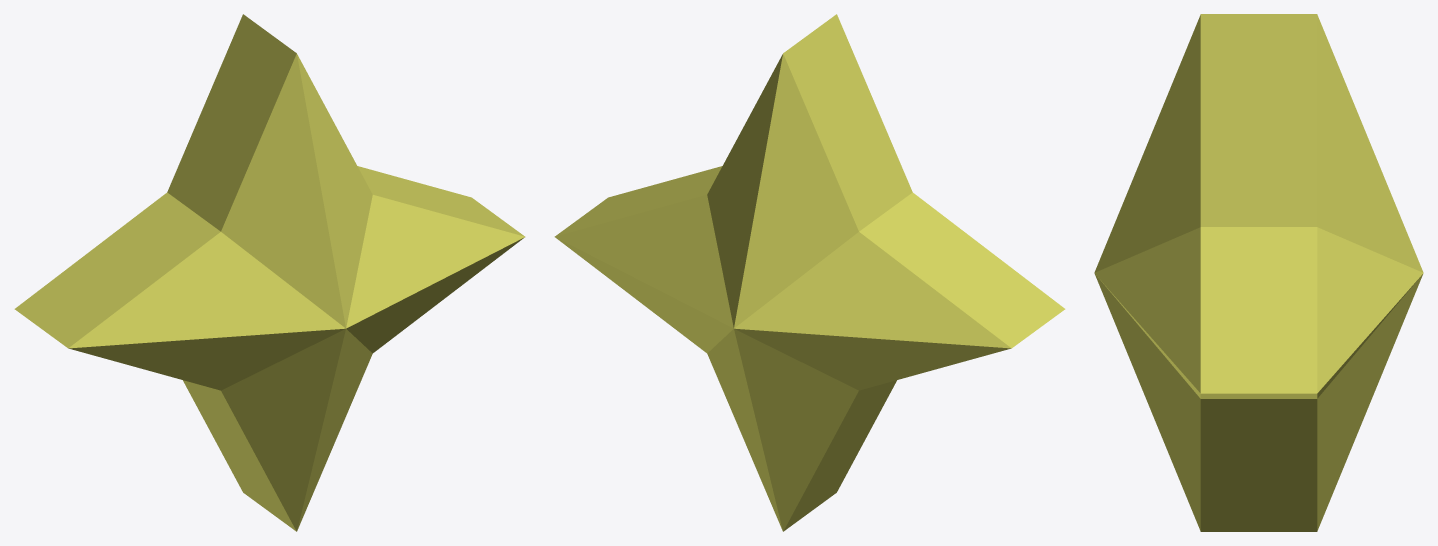
File: ui_life_small star 2.fbx
3 views of the same model, side by side, from view 1: azimuth 30°, elevation 25°; view 2: azimuth 150°, elevation 25°; view 3: azimuth 270°, elevation 25° (orthographic). The views are drawn at different scales.
Parts seen in each view (by area): view 1: Circle_002; view 2: Circle_002; view 3: Circle_002.
Boxes of the visible parts, x1,y1,x2,y2 form: Circle_002: (14,14,525,531); Circle_002: (554,14,1065,531); Circle_002: (1094,14,1423,531).
Bounding box in the file's own units: 400 × 400 × 231.
